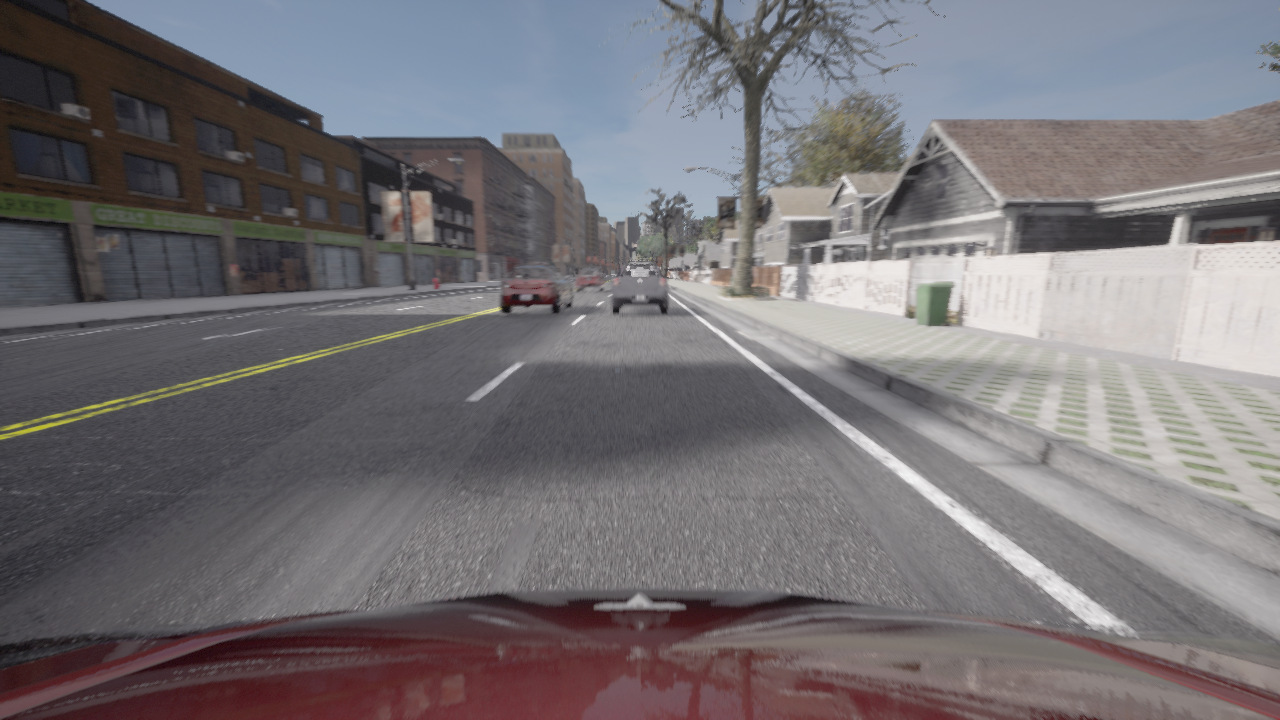cyclist: (0, 588, 1279, 719), (500, 265, 573, 313), (611, 263, 668, 314), (576, 268, 605, 291), (629, 262, 650, 263)
